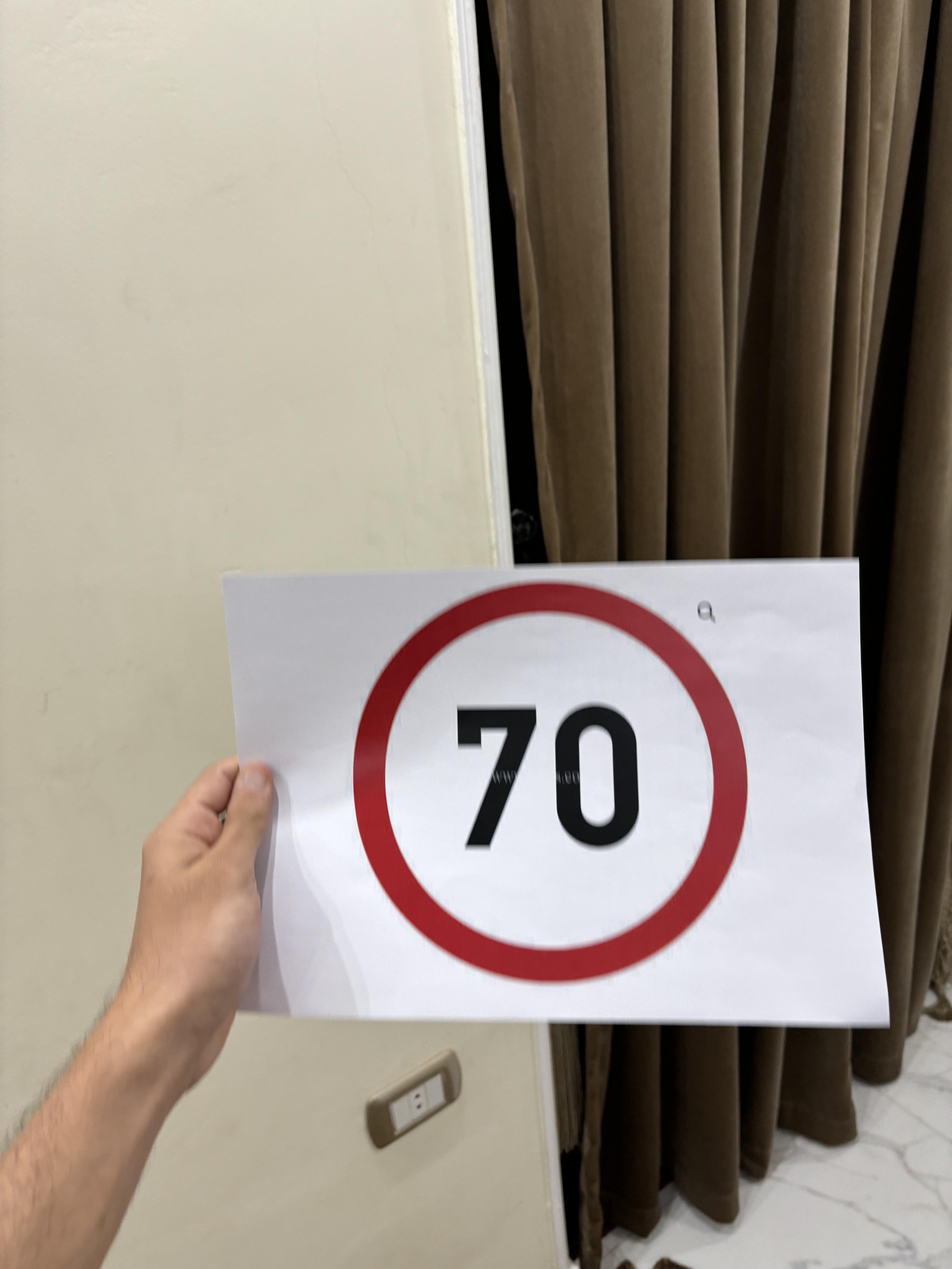70-Speed: (351, 585, 756, 988)
